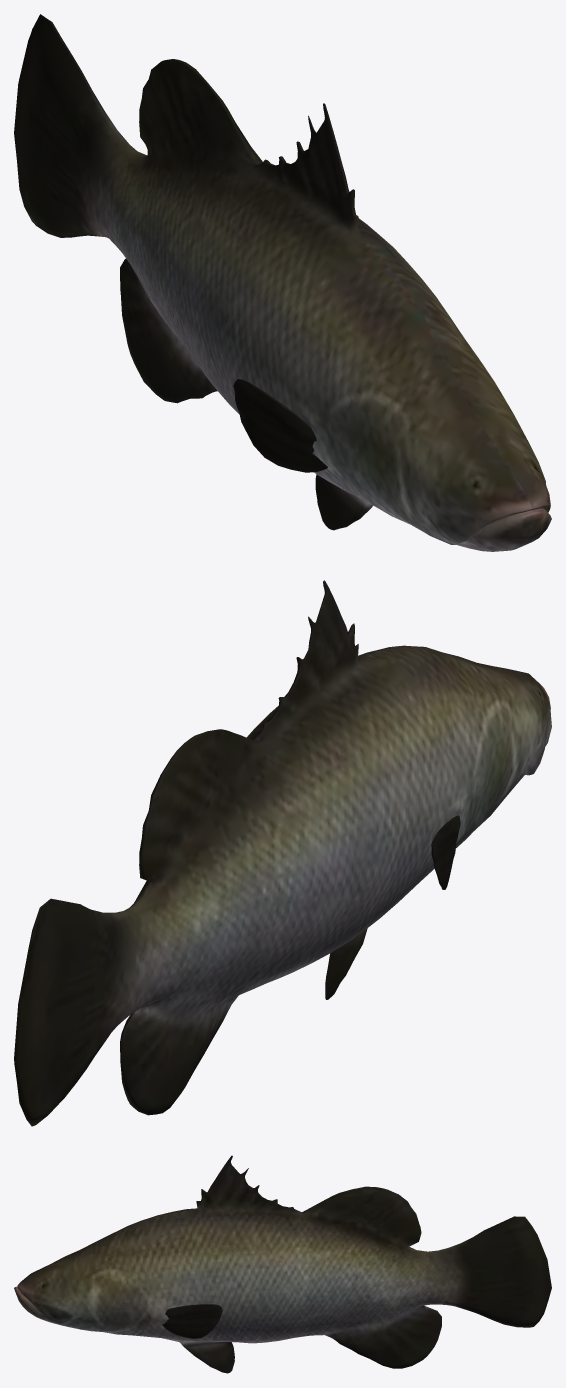
The model's file is barramundi.glb.
The picture shows the model from 3 angles, top to bottom: view 1: azimuth 30°, elevation 25°; view 2: azimuth 150°, elevation 25°; view 3: azimuth 270°, elevation 25°; orthographic projection. The views are drawn at different scales.
Visible parts, largest first — view 1: BarramundiFish; view 2: BarramundiFish; view 3: BarramundiFish.
Boxes of the visible parts, x1,y1,x2,y2 form: BarramundiFish: (14, 14, 551, 551); BarramundiFish: (14, 580, 551, 1126); BarramundiFish: (14, 1155, 551, 1373).
Bounding box in the file's own units: 0.1429 × 0.2875 × 0.6431.
Materials: 1 (1 with a texture image).
